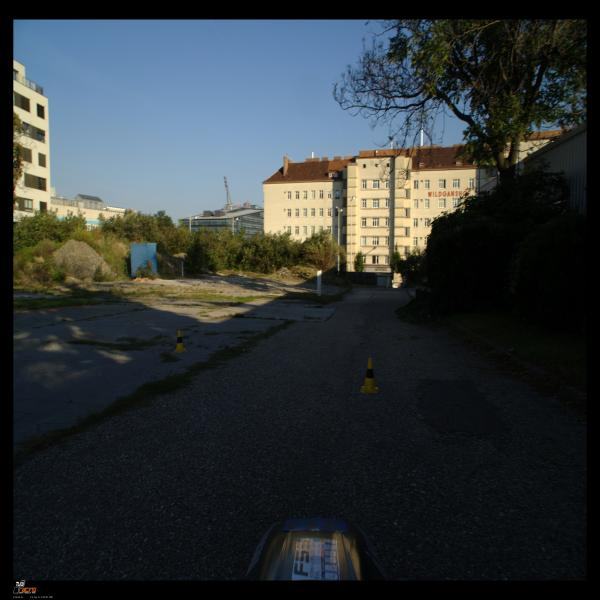yellow_cone: (361, 358, 379, 392), (172, 330, 188, 353)
